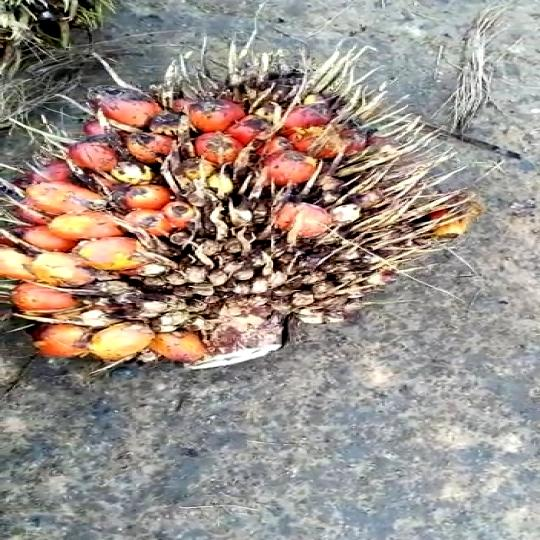masak: (0, 55, 476, 384)
